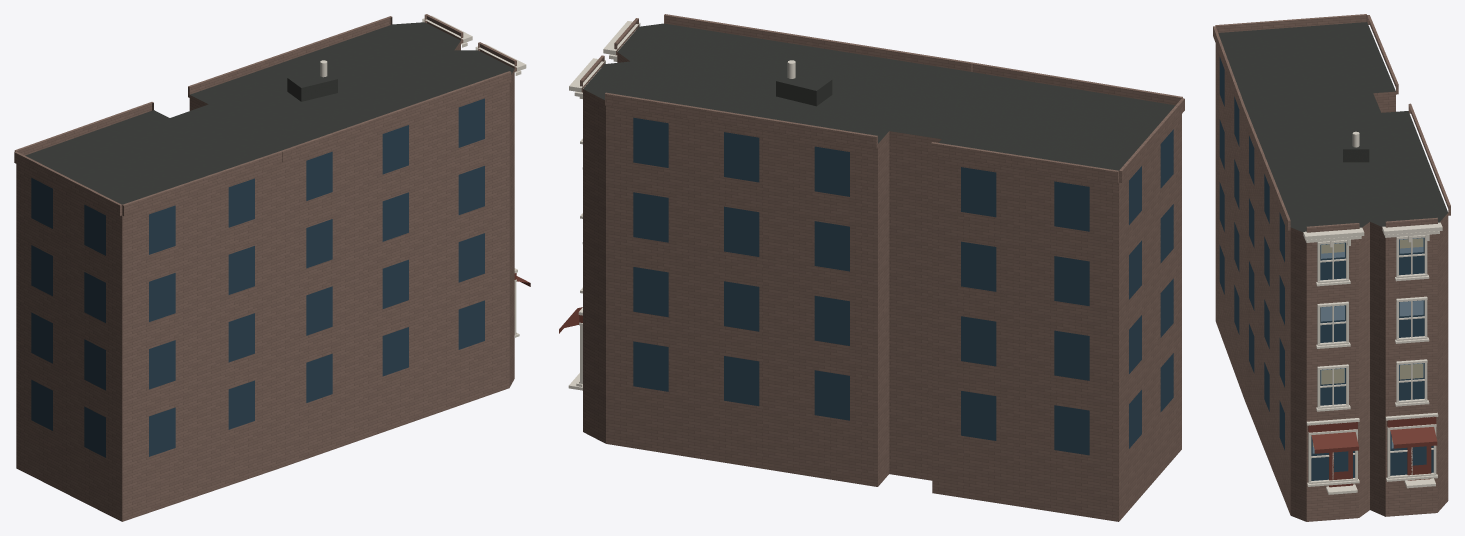
The picture shows the model from 3 angles, left to right: view 1: azimuth 30°, elevation 25°; view 2: azimuth 150°, elevation 25°; view 3: azimuth 270°, elevation 25°; orthographic projection. The views are drawn at different scales.
Visible parts, largest first — view 1: Footprint 0 / surface 2, Footprint 0 / surface 1, Inset glazing, Facade bay volumes, Cornices and window frames; view 2: Footprint 0 / surface 2, Footprint 0 / surface 1, Inset glazing, Facade bay volumes, Cornices and window frames; view 3: Footprint 0 / surface 2, Footprint 0 / surface 1, Inset glazing, Cornices and window frames, Facade bay volumes, Storefronts and doors, Sky reflection panels, Interior blind variation, Inferred rooftop service enclosure / surface 3, Inferred rooftop service enclosure / surface 1.
Boxes of the visible parts, bbox=[...] form: Footprint 0 / surface 2: bbox=[16, 41, 514, 521]; Footprint 0 / surface 1: bbox=[25, 22, 514, 204]; Inset glazing: bbox=[31, 98, 484, 457]; Facade bay volumes: bbox=[14, 14, 516, 216]; Cornices and window frames: bbox=[422, 15, 526, 337]; Footprint 0 / surface 2: bbox=[583, 52, 1181, 521]; Footprint 0 / surface 1: bbox=[583, 23, 1175, 170]; Inset glazing: bbox=[633, 117, 1173, 455]; Facade bay volumes: bbox=[580, 14, 1184, 183]; Cornices and window frames: bbox=[568, 21, 640, 390]; Footprint 0 / surface 2: bbox=[1215, 44, 1448, 521]; Footprint 0 / surface 1: bbox=[1218, 22, 1448, 231]; Inset glazing: bbox=[1219, 57, 1433, 480]; Cornices and window frames: bbox=[1303, 222, 1442, 494]; Facade bay volumes: bbox=[1213, 14, 1450, 232]; Storefronts and doors: bbox=[1308, 416, 1437, 487]; Sky reflection panels: bbox=[1312, 237, 1423, 453]; Interior blind variation: bbox=[1313, 238, 1423, 446]; Inferred rooftop service enclosure / surface 3: bbox=[1343, 132, 1369, 149]; Inferred rooftop service enclosure / surface 1: bbox=[1343, 149, 1369, 162].
Bounding box in the file's own units: 23.98 × 15.82 × 10.85.
